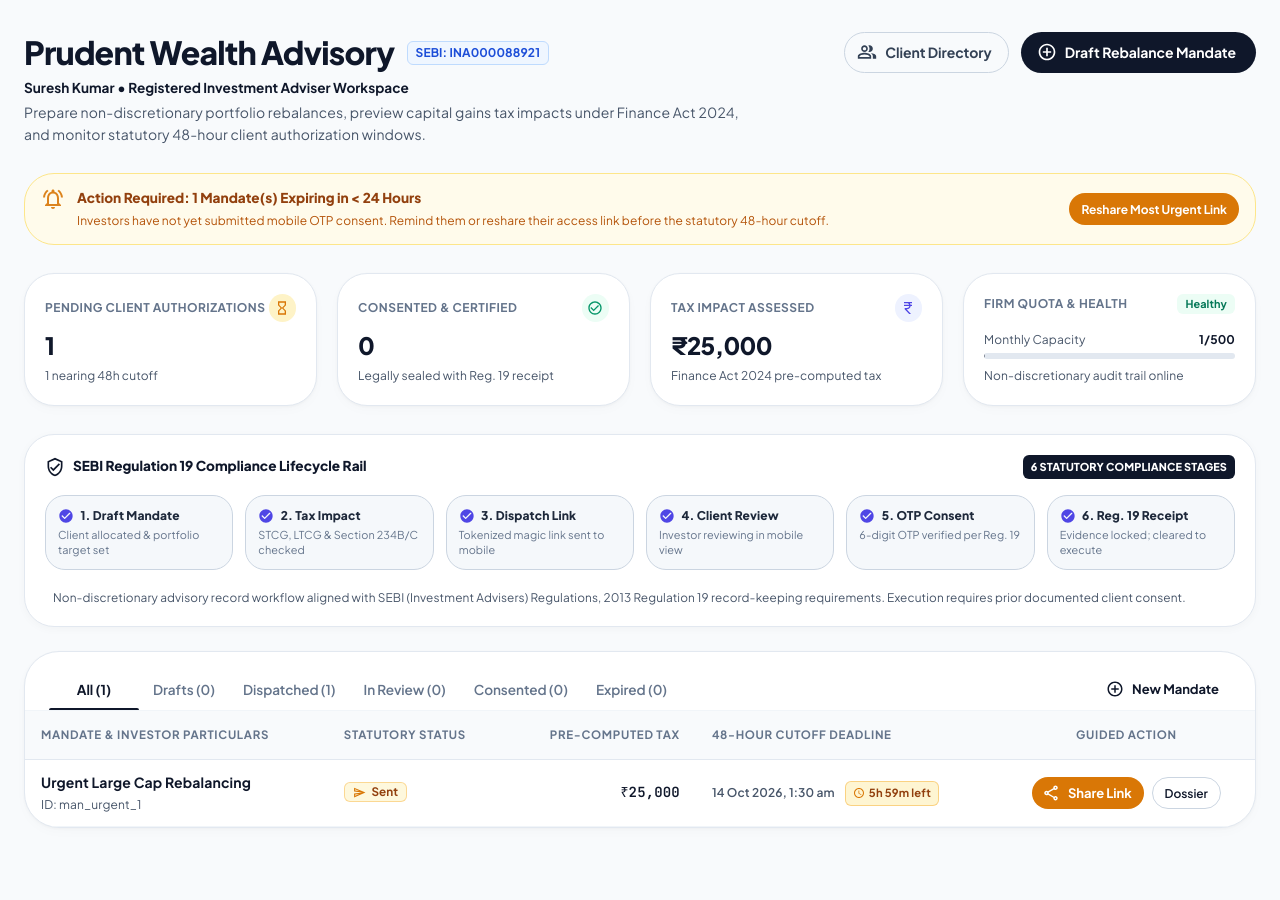
Test: Reshare & Remind Button Actions, Modal Hook Safety & Error Boundary Suite › 2. RiaDashboard Action Buttons ("Reshare most urgent links" & "Remind Client") › 2.3: Clicking "Share Link" on a sent mandate opens the modal cleanly
Click the button "Share Link" at (1088,793), box [1032,777,1144,809]
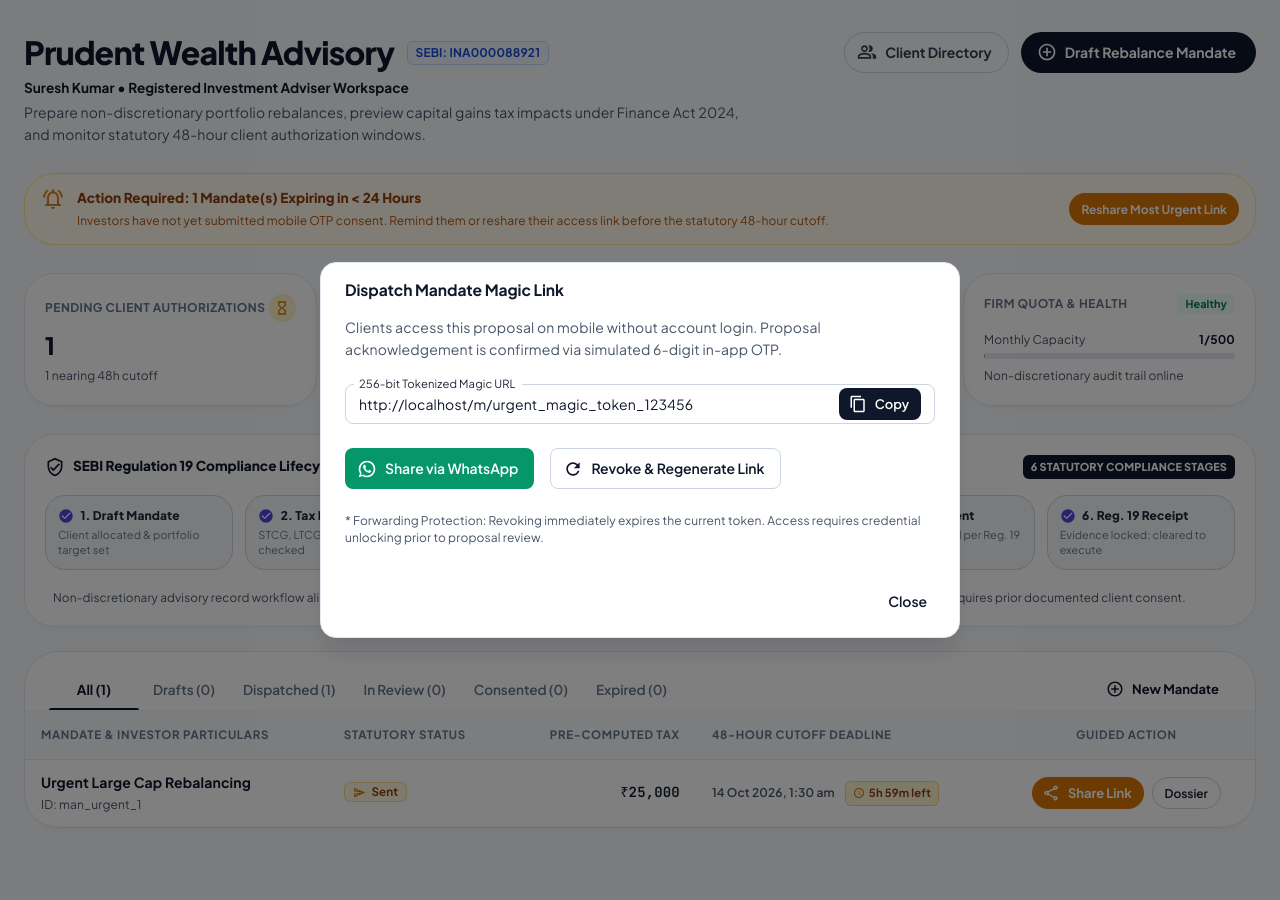
Expected: the heading "Dispatch Mandate Magic Link" is shown, [345,280,564,299]
